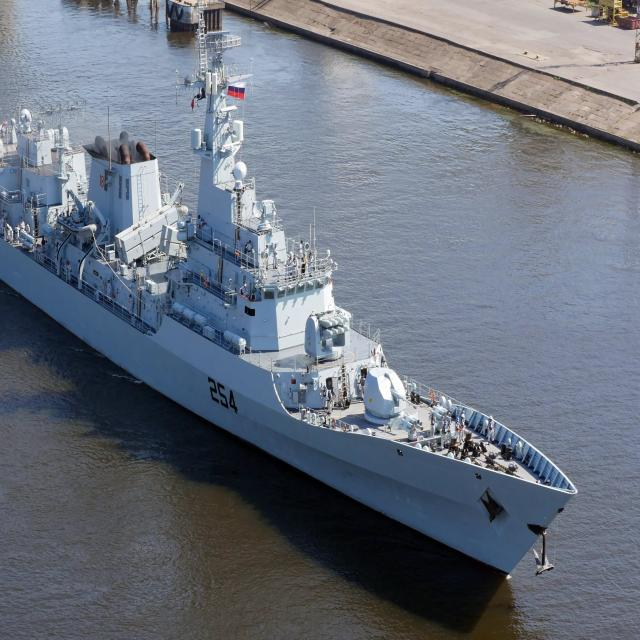Fragata: (1, 1, 586, 614)
